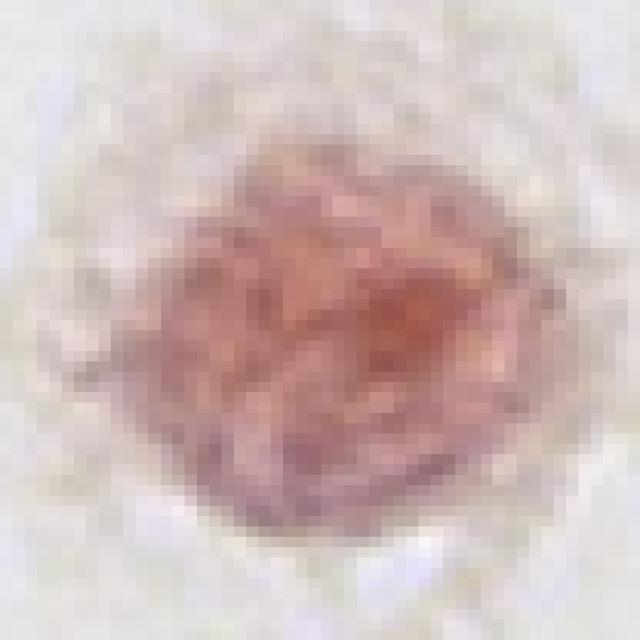cytoplasm: (0, 0, 628, 630)
